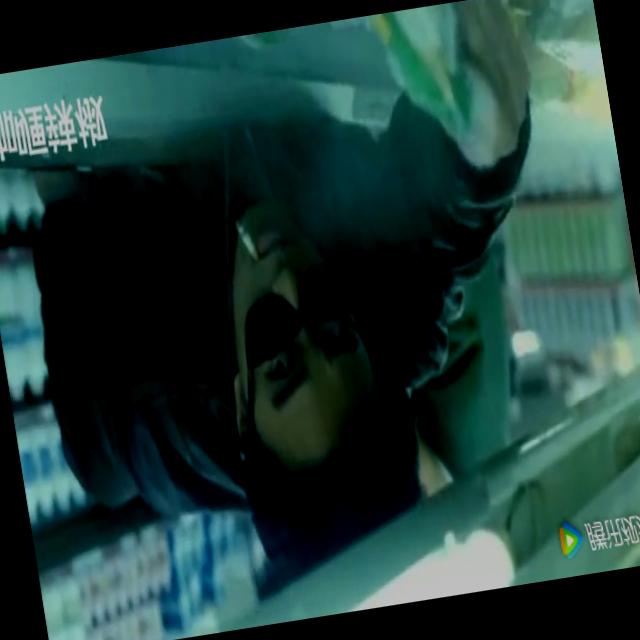cigarette: (234, 216, 258, 262)
